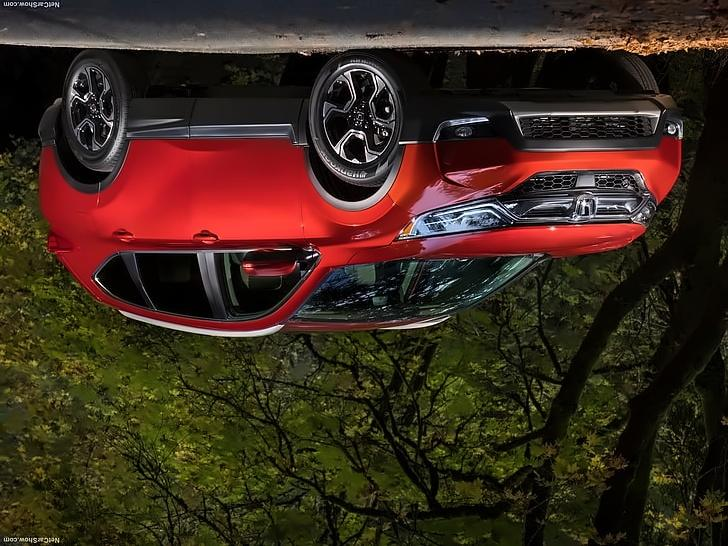Car hood: (346, 221, 652, 269)
Fender - -F-L-: (290, 104, 417, 279)
Fender - -R-L-: (30, 140, 104, 301)
Front bumper: (397, 98, 687, 158)
Headlight - -L-: (389, 194, 521, 241)
Headlight - -R-: (628, 194, 662, 231)
Passenger-s door - -F-L-: (189, 77, 309, 342)
Passenger-s door - -R-L-: (92, 86, 227, 340)
Rear bumper: (29, 96, 71, 153)
Side bumper - -L-: (119, 89, 307, 151)
Side mirror - -L-: (239, 239, 322, 278)
